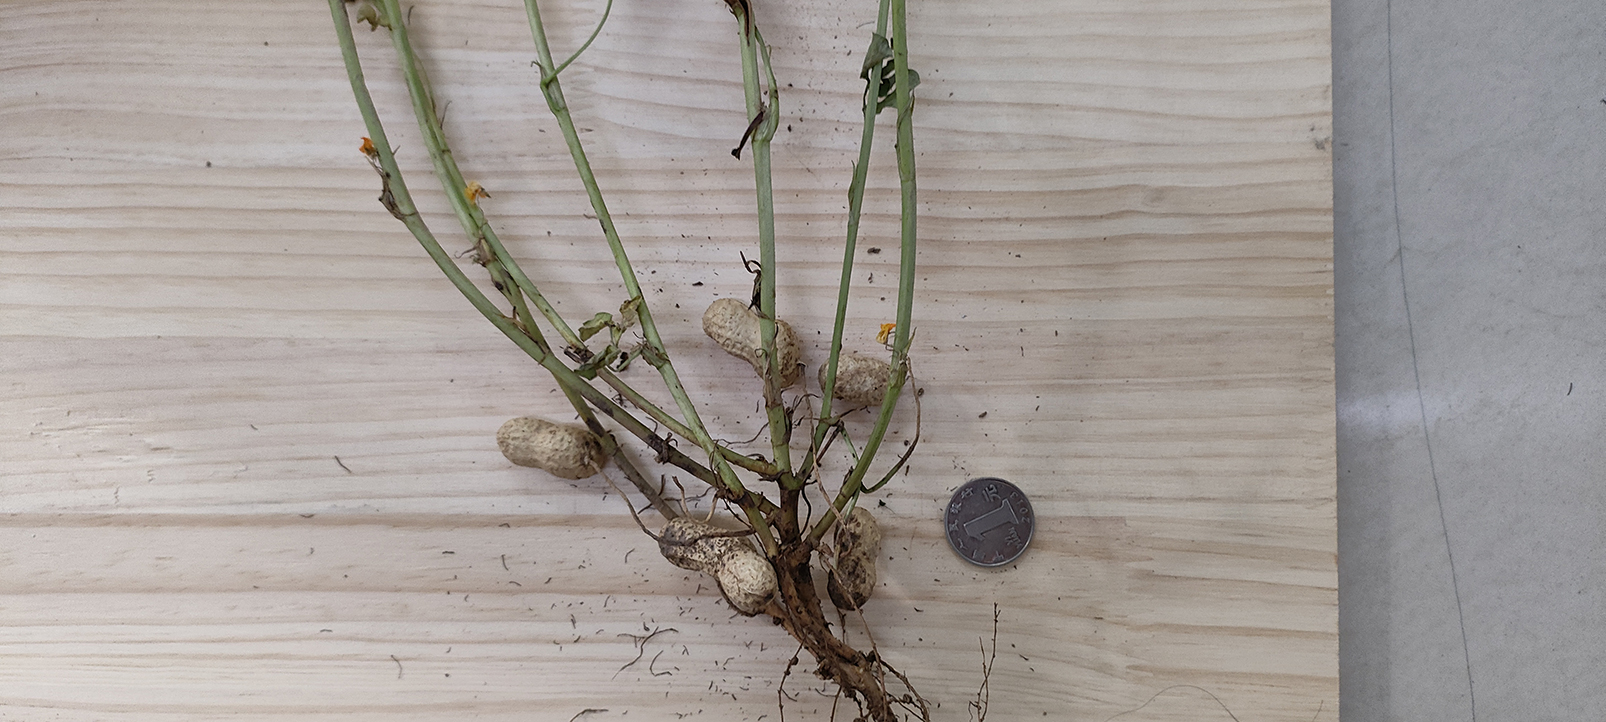h: (660, 518, 778, 615), (702, 298, 798, 386), (496, 415, 604, 480), (820, 356, 889, 405)
l: (829, 505, 883, 609)
